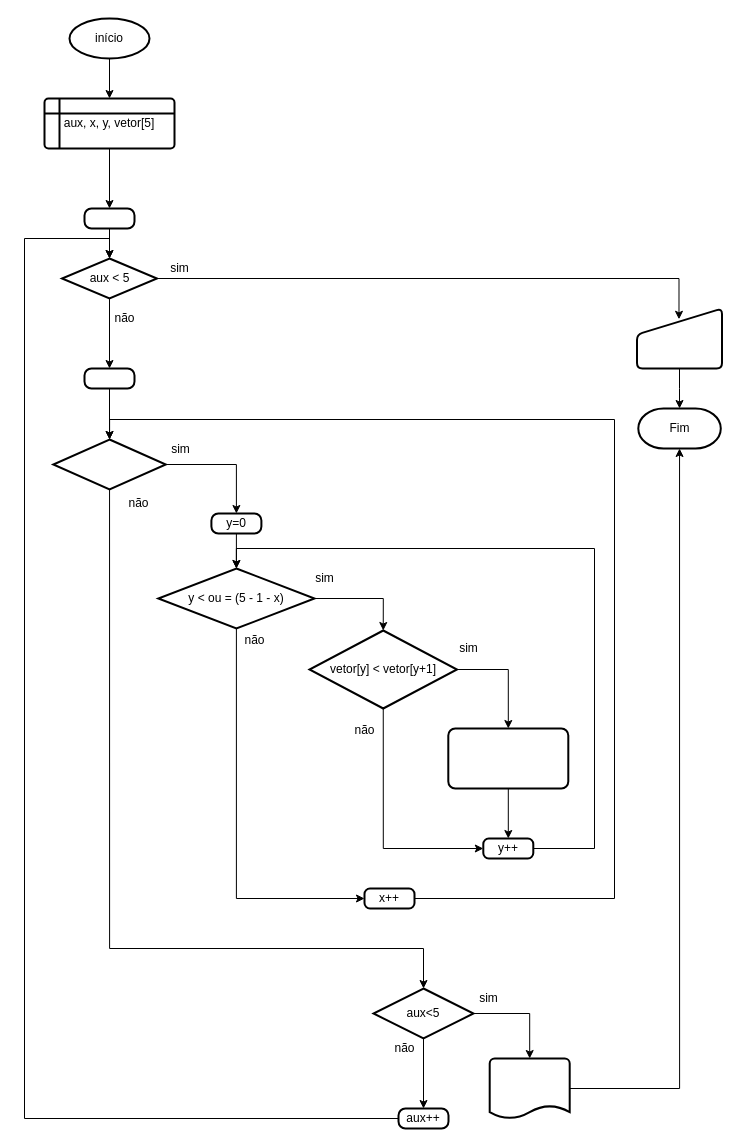
This 740x1146 diagram has some shape labels left out. The shapes that lost their labels are listed below. From the top down, each one's centre as x and y in pixels, then its label:
At pixel 109 218: "aux=0".
At pixel 679 338: "vetor[aux]".
At pixel 109 378: "x=0".
At pixel 109 464: "x < ou = (5-x)".
At pixel 508 758: "aux=vetor[y] vetor[y]=vetor[y+1] vetor[y+1]=aux".
At pixel 529 1088: "aux vetor[aux]".
